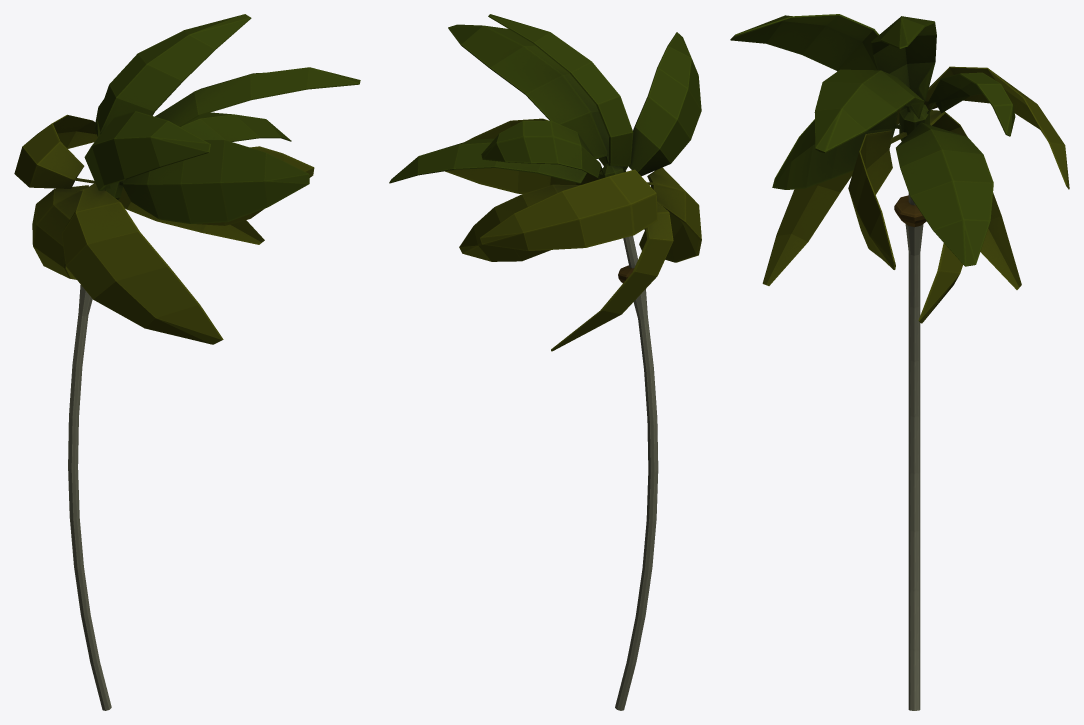
3 renders of one model, left to right at view 1: azimuth 30°, elevation 25°; view 2: azimuth 150°, elevation 25°; view 3: azimuth 270°, elevation 25°, orthographic. The views are drawn at different scales.
Parts seen in each view (by area): view 1: HurricanePalmTree_mesh; view 2: HurricanePalmTree_mesh; view 3: HurricanePalmTree_mesh.
Boxes of the visible parts, x1,y1,x2,y2 form: HurricanePalmTree_mesh: (14, 14, 360, 710); HurricanePalmTree_mesh: (389, 14, 701, 710); HurricanePalmTree_mesh: (730, 14, 1069, 710).
Bounding box in the file's own units: 12.07 × 27.77 × 11.55.
Materials: 1 (1 with a texture image).
